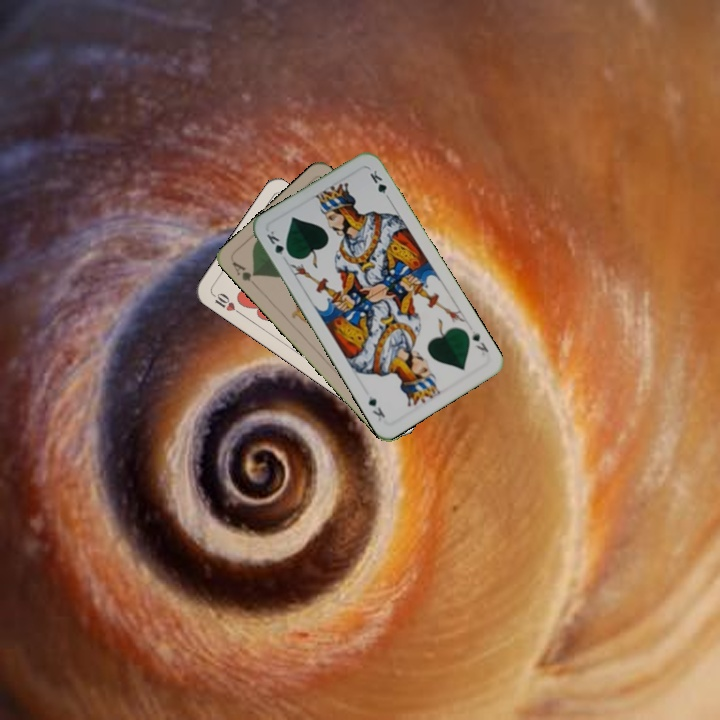GA: (228, 257, 260, 290)
GK: (262, 227, 294, 260), (468, 326, 491, 355)
H10: (208, 289, 244, 317)
